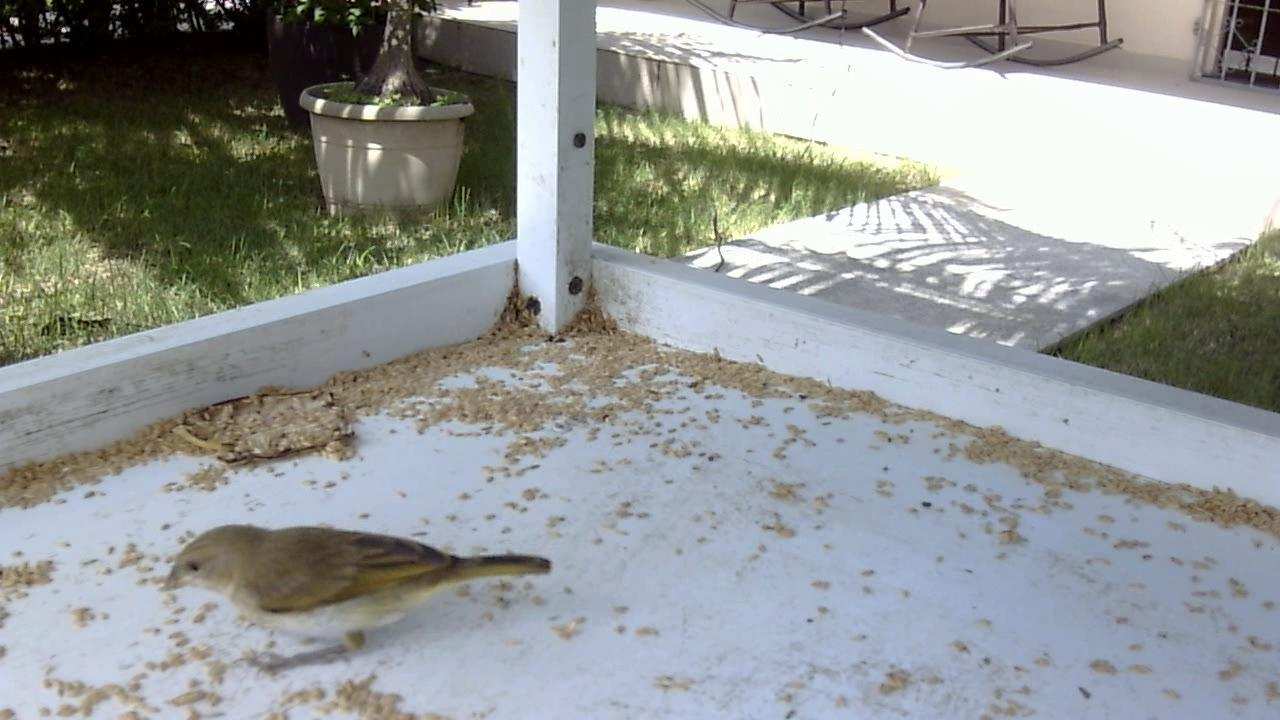canario_do_amazonas: (154, 504, 558, 675)
